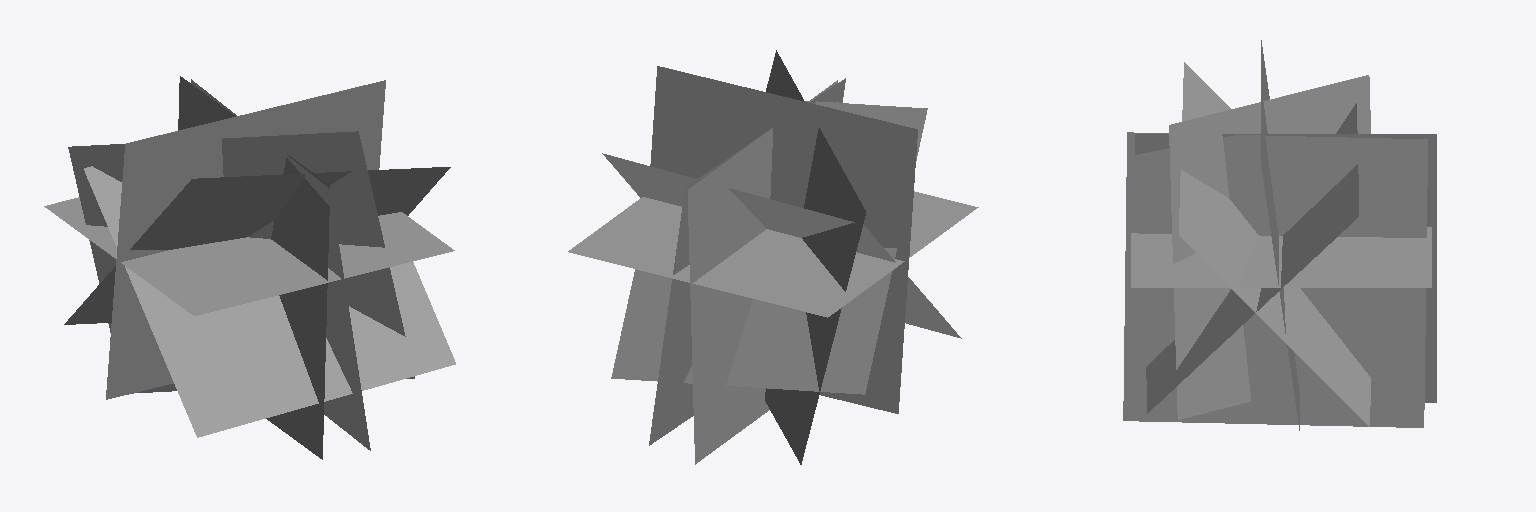
The model's file is nebula_model.obj.
The picture shows the model from 3 angles: view 1: azimuth 30°, elevation 25°; view 2: azimuth 150°, elevation 25°; view 3: azimuth 270°, elevation 25°; orthographic projection.
Visible parts, largest first — view 1: Plane_Plane.004_None; view 2: Plane_Plane.004_None; view 3: Plane_Plane.004_None.
Part boxes in pixels (x1,y1,x2,y2): Plane_Plane.004_None: (44,76,455,459); Plane_Plane.004_None: (568,50,978,464); Plane_Plane.004_None: (1123,40,1436,430).
Size of the model in its own units: 2.22 by 2.25 by 2.08.